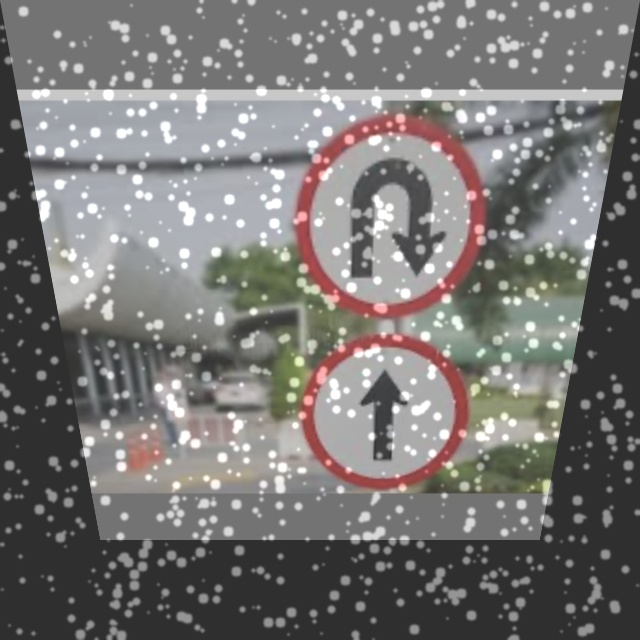U_Turn_Ahead: (297, 118, 497, 308)
